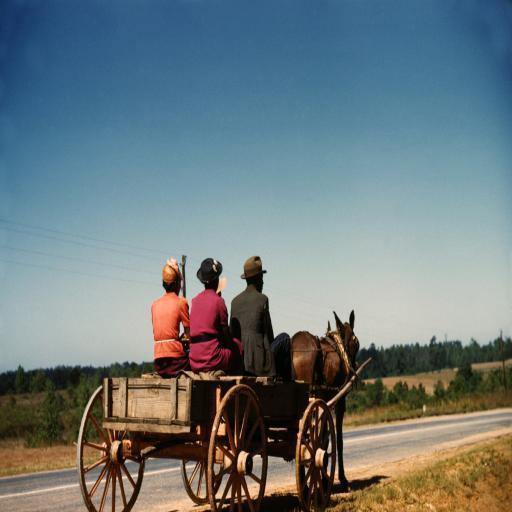horse: (294, 307, 362, 490)
